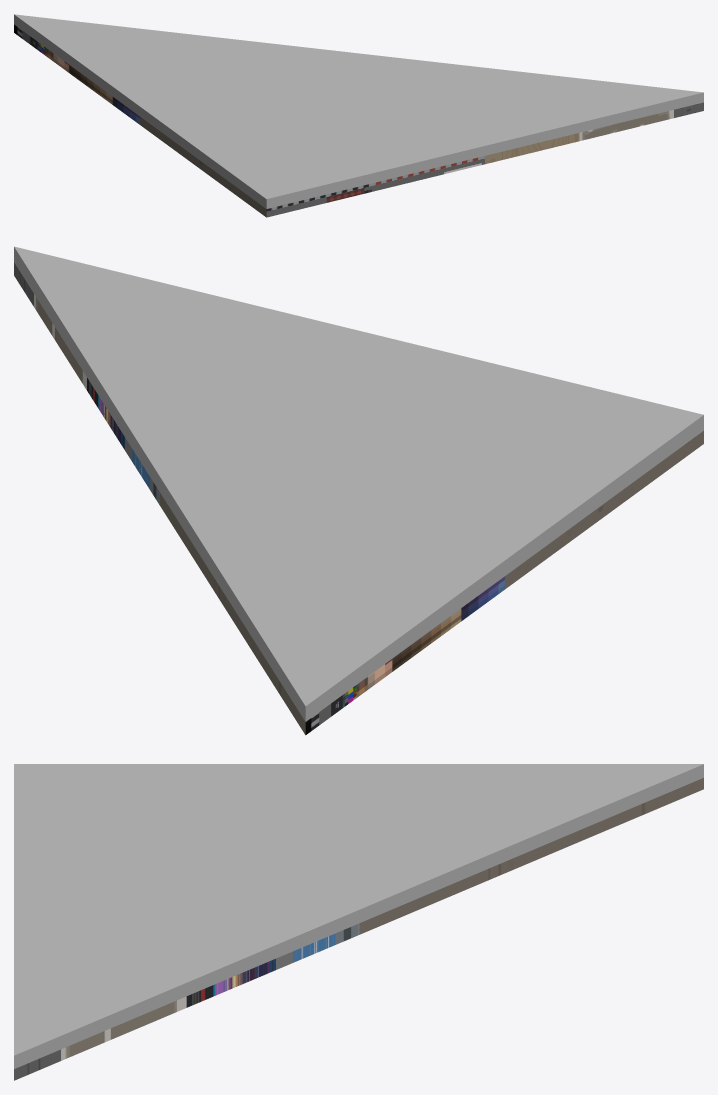
The model's file is SM_Bld_Base_45_Floor_Combined_01.glb.
3 views of the same model, one above another, from view 1: azimuth 30°, elevation 25°; view 2: azimuth 150°, elevation 25°; view 3: azimuth 270°, elevation 25° (orthographic). The views are drawn at different scales.
Visible parts, largest first — view 1: SM_Bld_Base_45_Floor_Combined_01; view 2: SM_Bld_Base_45_Floor_Combined_01; view 3: SM_Bld_Base_45_Floor_Combined_01.
Part boxes in pixels (box(x1,y1,x2,y2)): SM_Bld_Base_45_Floor_Combined_01: box(14, 14, 703, 217); SM_Bld_Base_45_Floor_Combined_01: box(14, 246, 703, 735); SM_Bld_Base_45_Floor_Combined_01: box(14, 764, 703, 1080).
Size of the model in its own units: 2.5 by 0.1006 by 2.5.
2 materials, 1 textured.
